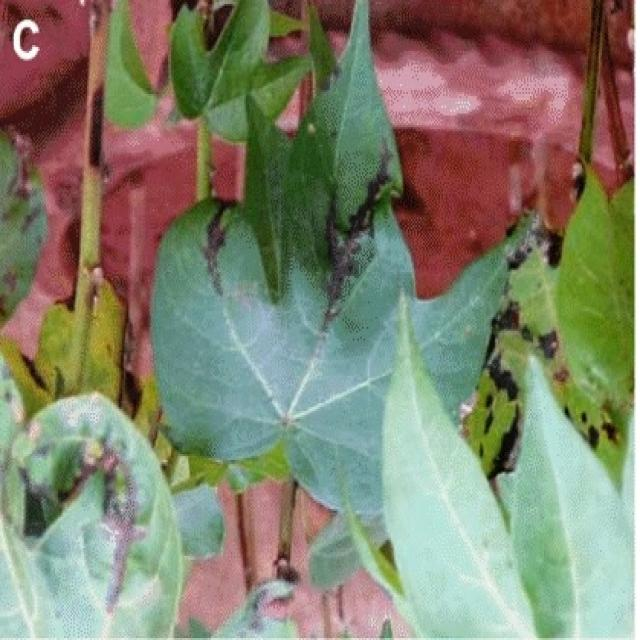Bacterial Blight: (190, 110, 396, 362)
